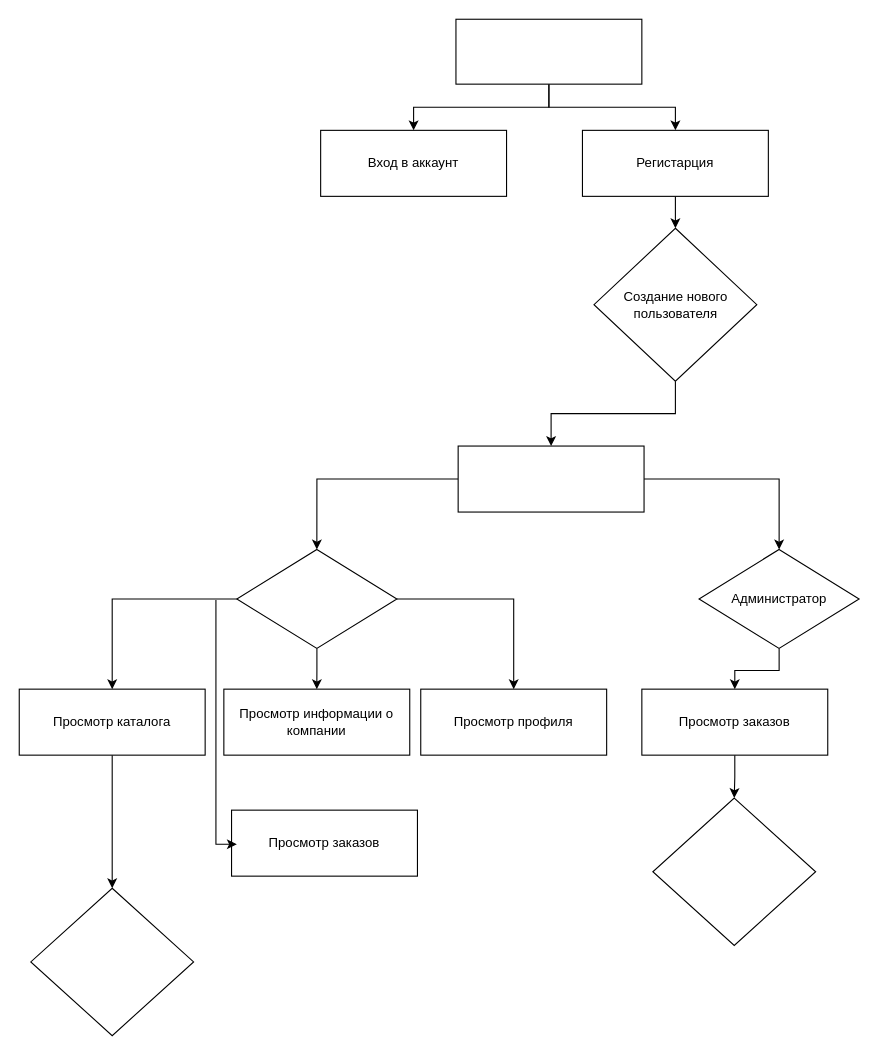
This 879x1055 diagram has some shape labels left out. The centre of each missing label's shape, as x and y in pixels:
"Вход на сайт" belongs at point 548,51.
"Главная страница" belongs at point 550,478.
"Оформление заказа" belongs at point 112,961.
"Подтверждение заказа" belongs at point 734,871.
"Пользователь" belongs at point 316,598.
